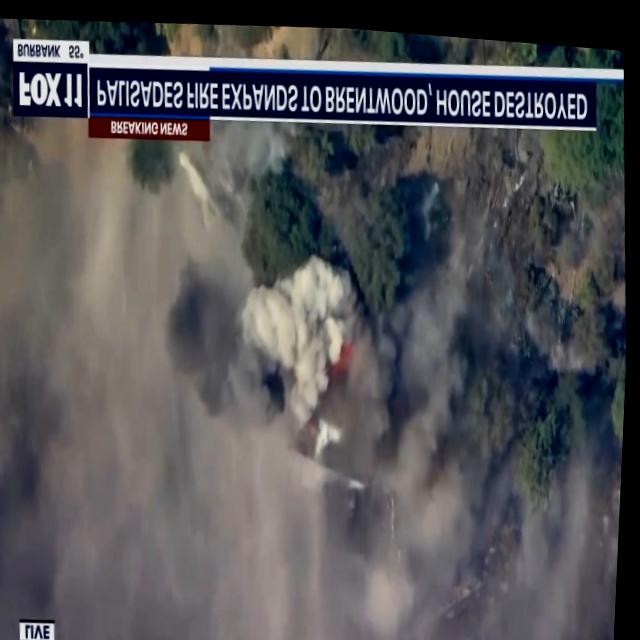no_helmet: (331, 209, 507, 640), (206, 232, 365, 487)
